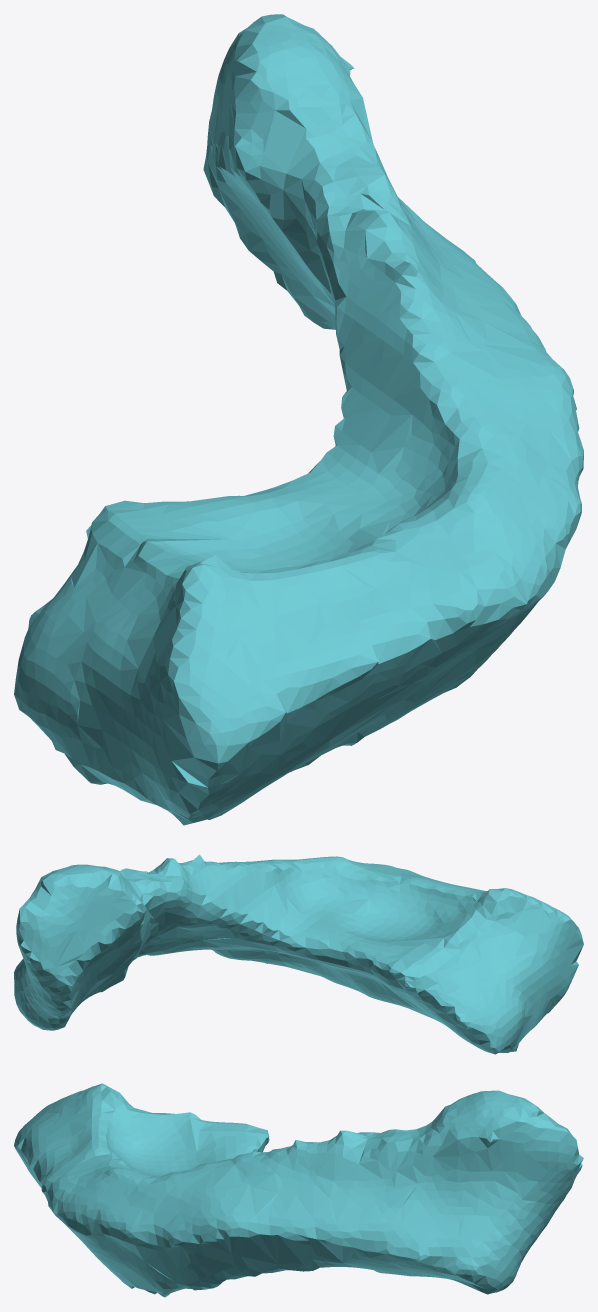
File: Model_119_RH__Prostriate_area_(ProSt).obj
3 renders of one model, top to bottom at view 1: azimuth 30°, elevation 25°; view 2: azimuth 150°, elevation 25°; view 3: azimuth 270°, elevation 25°, orthographic. The views are drawn at different scales.
Size of the model in its own units: 3.75 by 2.49 by 4.94.
